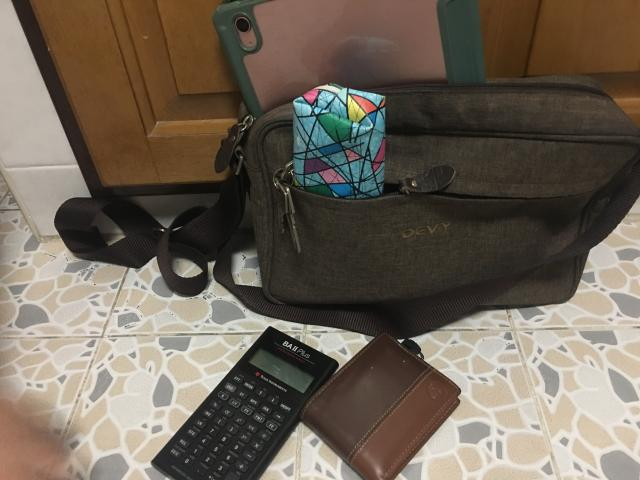Keys: (272, 161, 301, 252)
Wallet: (301, 334, 461, 479)
